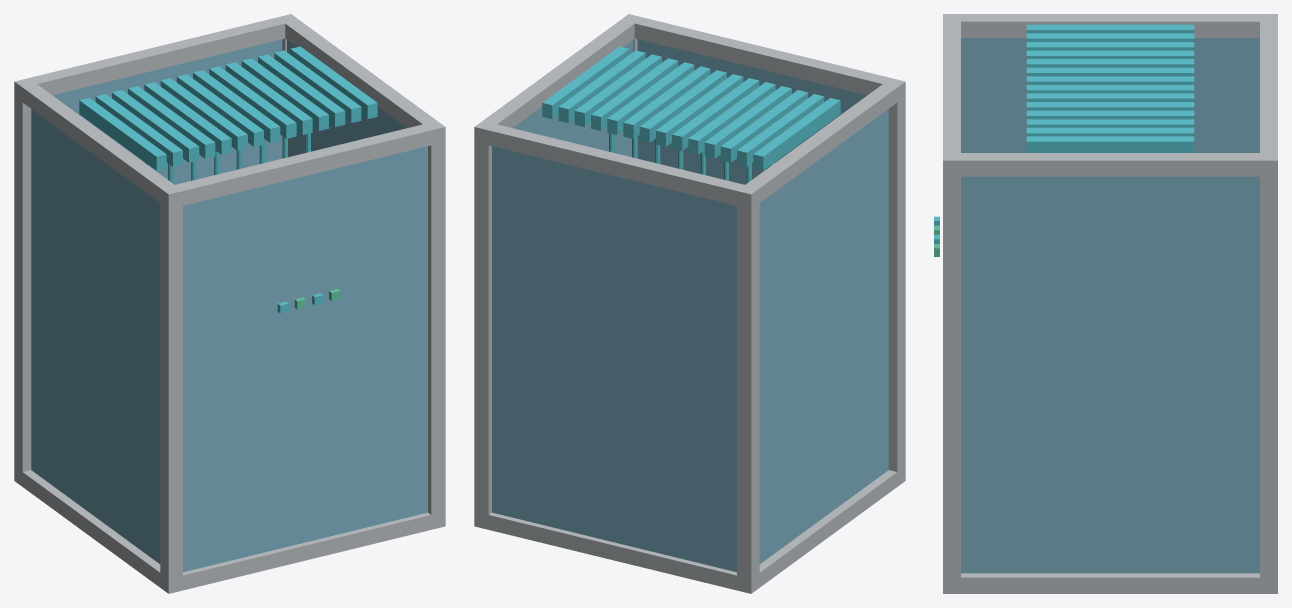
File: 36_L79_DrySurfaceCleaningModule.glb
The picture shows the model from 3 angles, left to right: view 1: azimuth 30°, elevation 25°; view 2: azimuth 150°, elevation 25°; view 3: azimuth 270°, elevation 25°; orthographic projection. The views are drawn at different scales.
Parts seen in each view (by area): view 1: DrySurfaceCleaningModule_Node_0013, DrySurfaceCleaningModule_Node_0014, DrySurfaceCleaningModule_Node_0001, DrySurfaceCleaningModule_Node_0003, DrySurfaceCleaningModule_Node_0000, DrySurfaceCleaningModule_Node_0009, DrySurfaceCleaningModule_Node_0008, DrySurfaceCleaningModule_Node_0012, DrySurfaceCleaningModule_Node_0005, DrySurfaceCleaningModule_Node_0010, DrySurfaceCleaningModule_Node_0011, DrySurfaceCleaningModule_Node_0006 (+15 smaller); view 2: DrySurfaceCleaningModule_Node_0012, DrySurfaceCleaningModule_Node_0014, DrySurfaceCleaningModule_Node_0000, DrySurfaceCleaningModule_Node_0002, DrySurfaceCleaningModule_Node_0001, DrySurfaceCleaningModule_Node_0008, DrySurfaceCleaningModule_Node_0009, DrySurfaceCleaningModule_Node_0013, DrySurfaceCleaningModule_Node_0004, DrySurfaceCleaningModule_Node_0010, DrySurfaceCleaningModule_Node_0011, DrySurfaceCleaningModule_Node_0006 (+15 smaller); view 3: DrySurfaceCleaningModule_Node_0015, DrySurfaceCleaningModule_Node_0014, DrySurfaceCleaningModule_Node_0002, DrySurfaceCleaningModule_Node_0003, DrySurfaceCleaningModule_Node_0011, DrySurfaceCleaningModule_Node_0007, DrySurfaceCleaningModule_Node_0010, DrySurfaceCleaningModule_Node_0029, DrySurfaceCleaningModule_Node_0009, DrySurfaceCleaningModule_Node_0008, DrySurfaceCleaningModule_Node_0016, DrySurfaceCleaningModule_Node_0021 (+11 smaller).
Boxes of the visible parts, bbox=[...] form: DrySurfaceCleaningModule_Node_0013: bbox=[183, 146, 427, 572]; DrySurfaceCleaningModule_Node_0014: bbox=[31, 109, 160, 563]; DrySurfaceCleaningModule_Node_0001: bbox=[160, 185, 182, 593]; DrySurfaceCleaningModule_Node_0003: bbox=[423, 121, 445, 529]; DrySurfaceCleaningModule_Node_0000: bbox=[14, 78, 32, 486]; DrySurfaceCleaningModule_Node_0009: bbox=[160, 121, 445, 208]; DrySurfaceCleaningModule_Node_0008: bbox=[14, 14, 296, 101]; DrySurfaceCleaningModule_Node_0012: bbox=[53, 39, 282, 184]; DrySurfaceCleaningModule_Node_0005: bbox=[160, 511, 445, 593]; DrySurfaceCleaningModule_Node_0010: bbox=[14, 78, 182, 208]; DrySurfaceCleaningModule_Node_0011: bbox=[280, 14, 445, 143]; DrySurfaceCleaningModule_Node_0006: bbox=[14, 466, 179, 592]; DrySurfaceCleaningModule_Node_0012: bbox=[492, 146, 736, 572]; DrySurfaceCleaningModule_Node_0014: bbox=[759, 109, 888, 563]; DrySurfaceCleaningModule_Node_0000: bbox=[737, 185, 759, 593]; DrySurfaceCleaningModule_Node_0002: bbox=[474, 121, 496, 529]; DrySurfaceCleaningModule_Node_0001: bbox=[887, 78, 905, 484]; DrySurfaceCleaningModule_Node_0008: bbox=[475, 121, 758, 208]; DrySurfaceCleaningModule_Node_0009: bbox=[622, 14, 905, 96]; DrySurfaceCleaningModule_Node_0013: bbox=[637, 39, 866, 184]; DrySurfaceCleaningModule_Node_0004: bbox=[474, 511, 759, 592]; DrySurfaceCleaningModule_Node_0010: bbox=[740, 78, 905, 207]; DrySurfaceCleaningModule_Node_0011: bbox=[474, 14, 637, 143]; DrySurfaceCleaningModule_Node_0006: bbox=[737, 467, 904, 593]; DrySurfaceCleaningModule_Node_0015: bbox=[961, 176, 1259, 573]; DrySurfaceCleaningModule_Node_0014: bbox=[961, 38, 1259, 152]; DrySurfaceCleaningModule_Node_0002: bbox=[1260, 153, 1277, 593]; DrySurfaceCleaningModule_Node_0003: bbox=[943, 153, 960, 593]; DrySurfaceCleaningModule_Node_0011: bbox=[943, 153, 1277, 176]; DrySurfaceCleaningModule_Node_0007: bbox=[943, 573, 1277, 593]; DrySurfaceCleaningModule_Node_0010: bbox=[944, 14, 1277, 37]; DrySurfaceCleaningModule_Node_0029: bbox=[1026, 136, 1194, 152]; DrySurfaceCleaningModule_Node_0009: bbox=[943, 14, 960, 176]; DrySurfaceCleaningModule_Node_0008: bbox=[1260, 14, 1277, 175]; DrySurfaceCleaningModule_Node_0016: bbox=[1026, 24, 1194, 33]; DrySurfaceCleaningModule_Node_0021: bbox=[1026, 67, 1194, 76].
Bounding box in the file's own units: 1.45 × 2.02 × 1.44.
